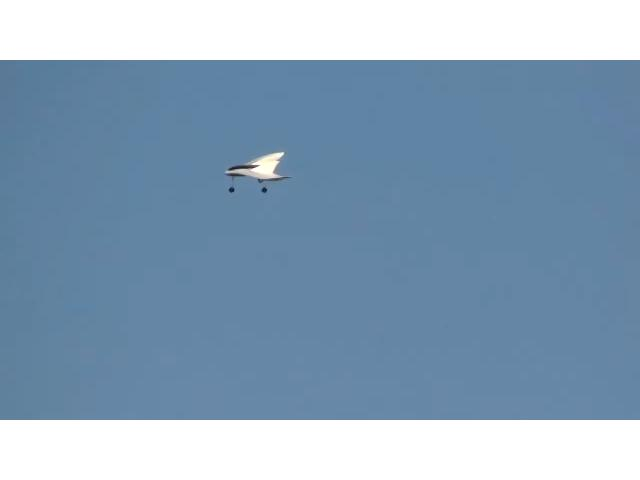Anti-Drone: (224, 152, 288, 181)
